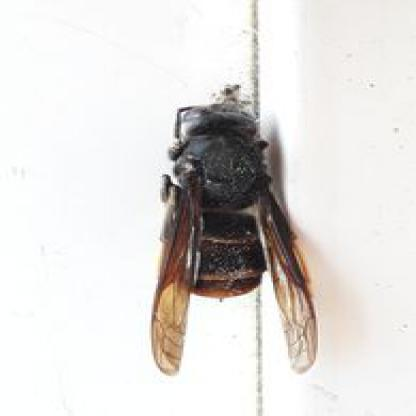Asian Hornet: (145, 81, 325, 378)
